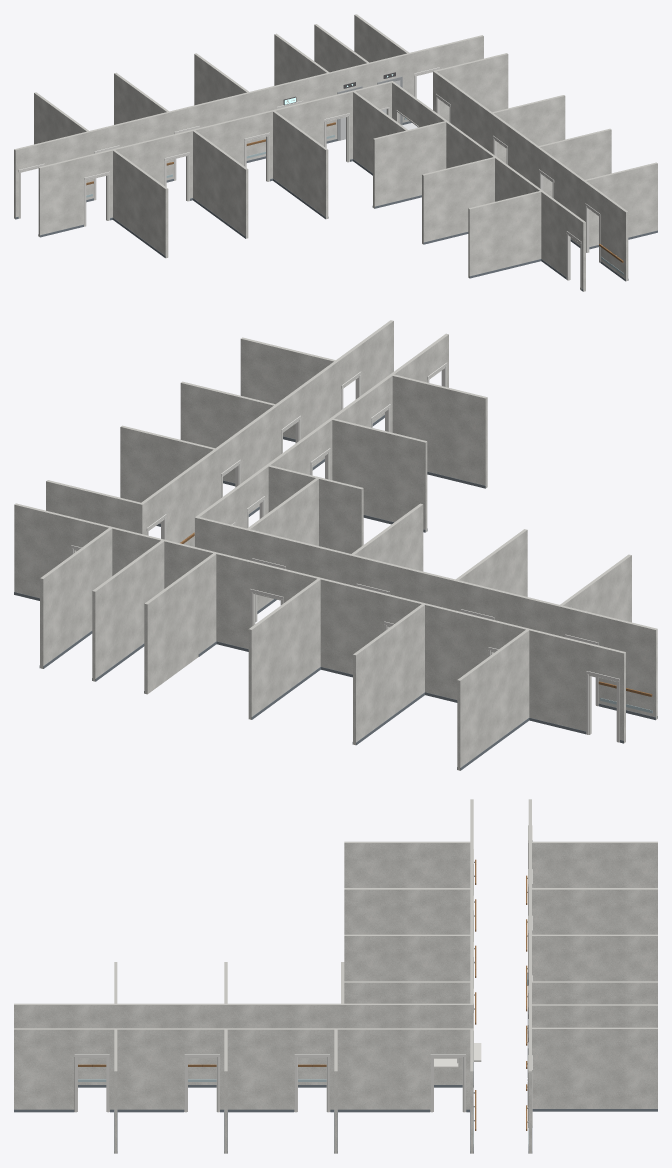
Rendered from walls_t.glb.
The picture shows the model from 3 angles, top to bottom: view 1: azimuth 30°, elevation 25°; view 2: azimuth 150°, elevation 25°; view 3: azimuth 270°, elevation 25°; orthographic projection. The views are drawn at different scales.
Visible parts, largest first — view 1: walls_t_plaster, walls_t_frame, walls_t_vinyl; view 2: walls_t_plaster, walls_t_frame, walls_t_vinyl; view 3: walls_t_plaster, walls_t_frame, walls_t_vinyl, walls_t_wood.
Part boxes in pixels (x1=…): walls_t_plaster: x1=14, y1=14, x2=657, y2=291; walls_t_frame: x1=18, y1=67, x2=600, y2=289; walls_t_vinyl: x1=15, y1=121, x2=657, y2=291; walls_t_plaster: x1=14, y1=320, x2=657, y2=770; walls_t_frame: x1=71, y1=362, x2=619, y2=742; walls_t_vinyl: x1=14, y1=415, x2=657, y2=770; walls_t_plaster: x1=14, y1=799, x2=657, y2=1153; walls_t_frame: x1=74, y1=825, x2=532, y2=1127; walls_t_vinyl: x1=14, y1=1062, x2=657, y2=1153; walls_t_wood: x1=78, y1=859, x2=527, y2=1130.
Size of the model in its own units: 23.4 by 3.3 by 23.4.
Materials: 12 (2 with a texture image).
